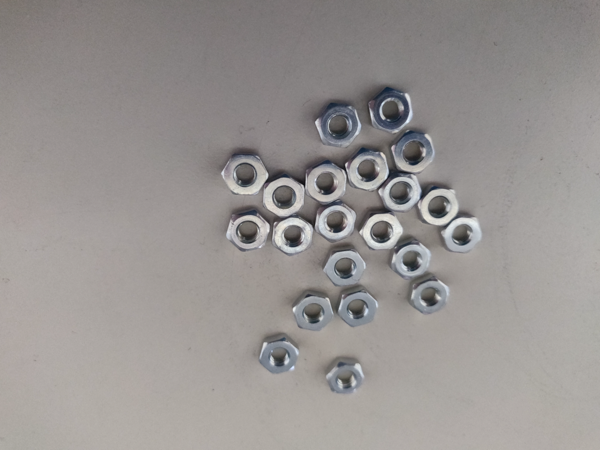nut: (314, 102, 362, 148), (220, 151, 268, 195), (369, 86, 412, 134), (226, 208, 269, 252), (304, 162, 347, 205), (392, 130, 434, 174), (359, 211, 403, 251), (264, 175, 305, 217), (315, 200, 357, 241), (347, 150, 389, 191), (390, 237, 431, 279), (440, 213, 482, 254), (324, 247, 367, 287), (418, 184, 458, 226), (257, 334, 300, 373), (291, 293, 335, 331), (272, 217, 314, 256), (410, 275, 450, 315), (337, 290, 379, 328), (380, 174, 422, 212), (327, 357, 364, 393)
